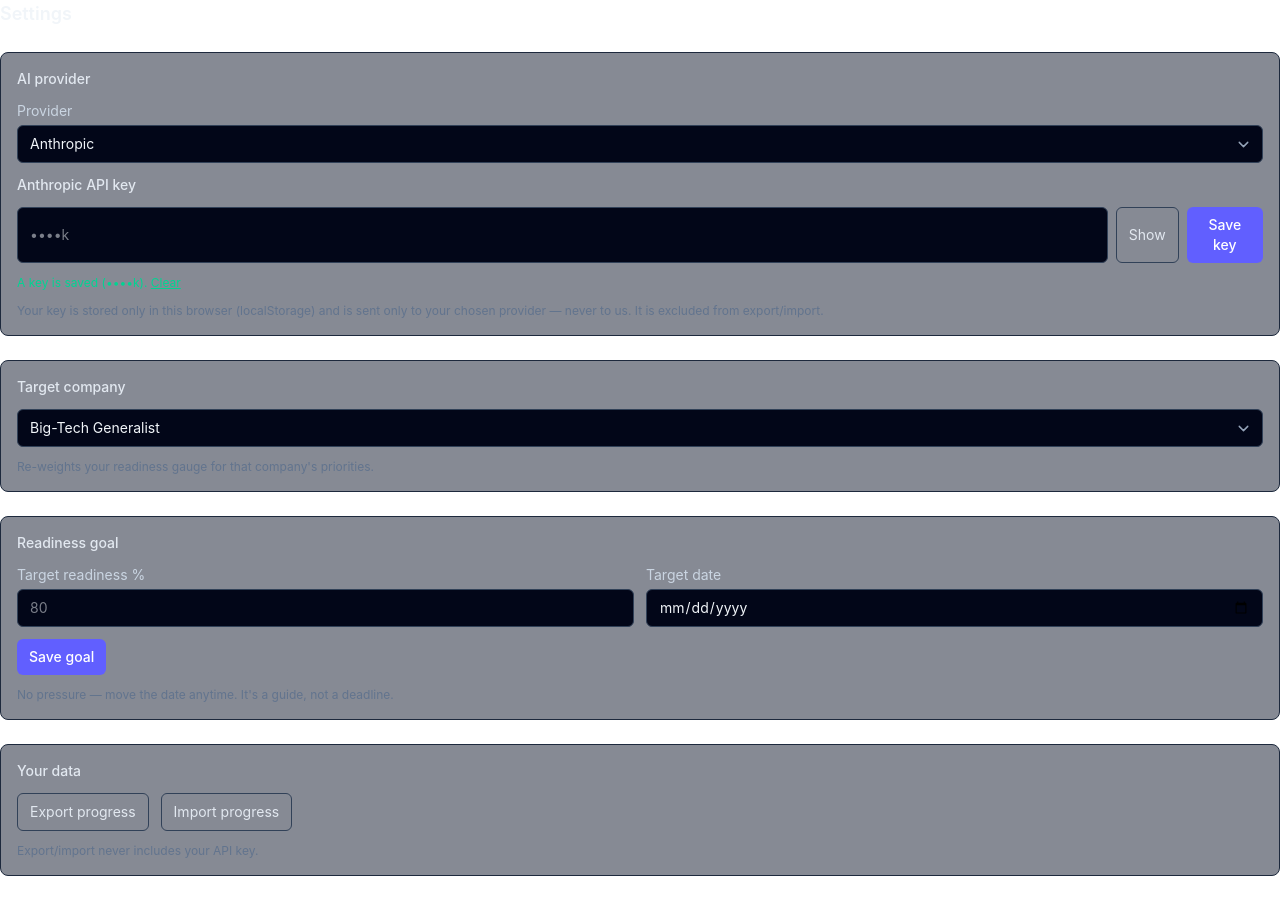
Scenario: Settings › switching provider prefills base URL + model and relabels the key field
The image size is (1280, 900).
Select "Groq" in the dropdown labelled "Provider": (640, 144) [17, 125, 1263, 163]
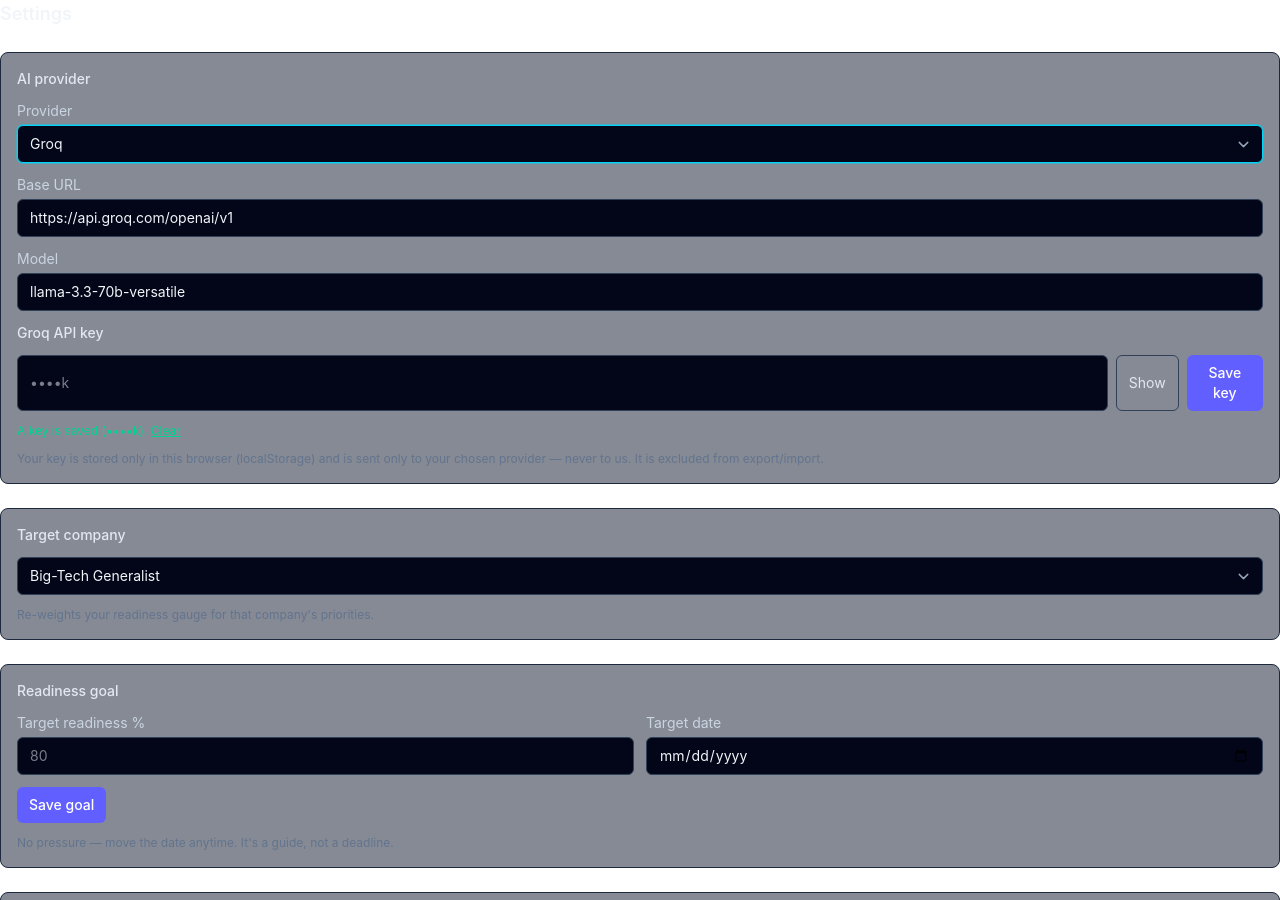
expect the password field labelled "Groq API key" is shown: met, box [17, 355, 1108, 411]
expect the field labelled "Base URL" holds "https://api.groq.com/openai/v1": met, box [17, 199, 1263, 237]
expect the field labelled "Model" holds "llama-3.3-70b-versatile": met, box [17, 273, 1263, 311]
